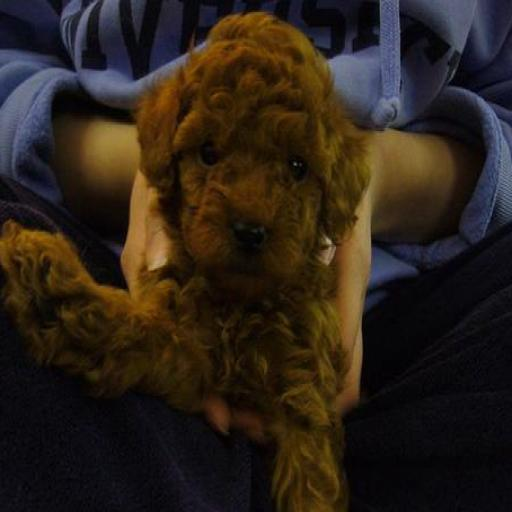dog_face: (138, 22, 368, 293)
